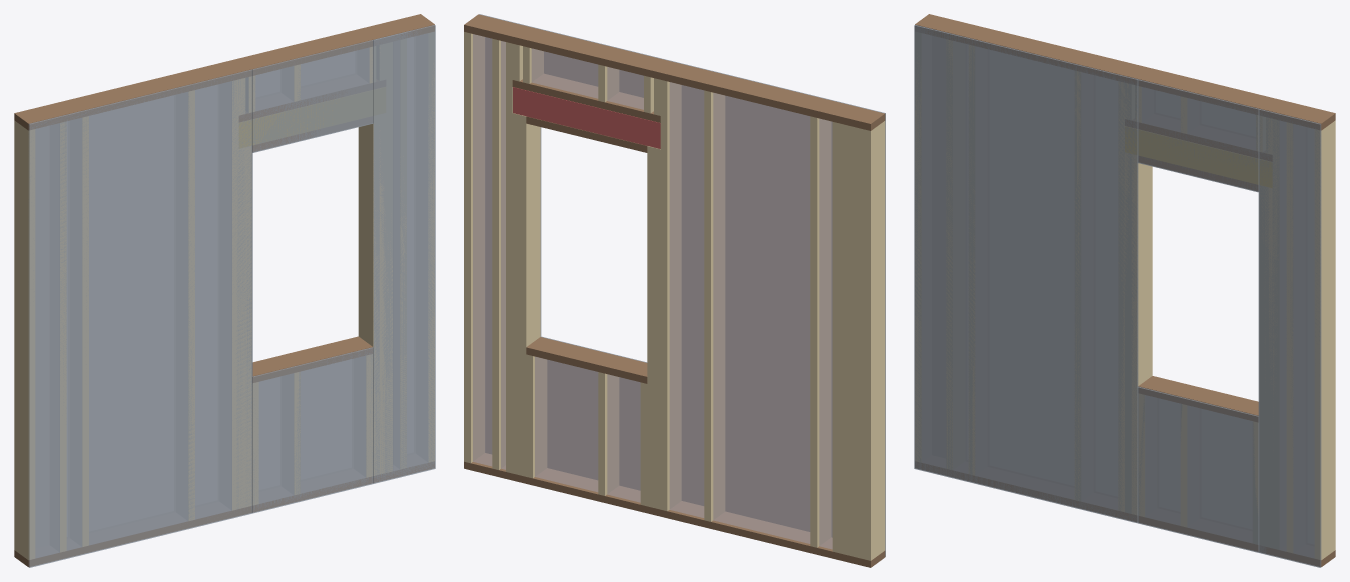
The picture shows the model from 3 angles, left to right: view 1: azimuth 30°, elevation 25°; view 2: azimuth 150°, elevation 25°; view 3: azimuth 330°, elevation 25°; orthographic projection.
Visible parts, largest first — view 1: EX16 FF; view 2: EX16 FF; view 3: EX16 FF.
Part boxes in pixels (box(x1,y1,x2,y2)): EX16 FF: box(14, 14, 435, 567); EX16 FF: box(464, 14, 885, 567); EX16 FF: box(914, 14, 1335, 567).
Size of the model in its own units: 2.3 by 2.4 by 0.149.
